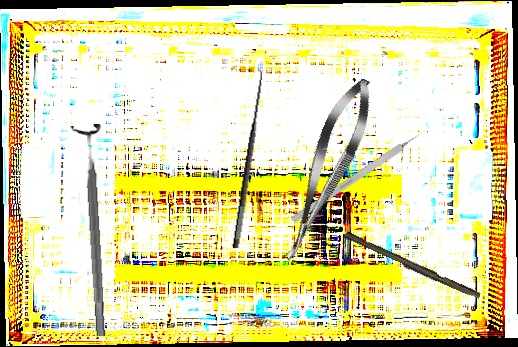Fixation Ring: (69, 123, 117, 338)
Hook Surgical: (290, 126, 430, 224), (218, 68, 269, 249)
Micro Scissor: (270, 71, 384, 269)
Scalpel Handle: (343, 231, 482, 302)
